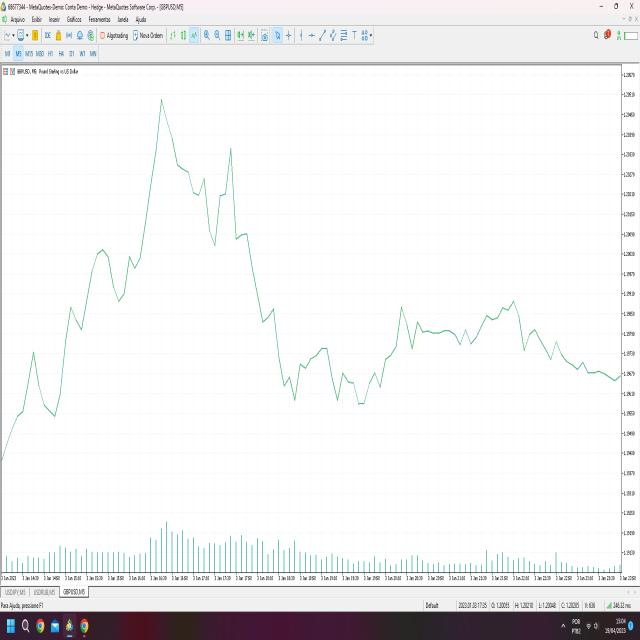topo_duplo: (142, 89, 261, 307)
